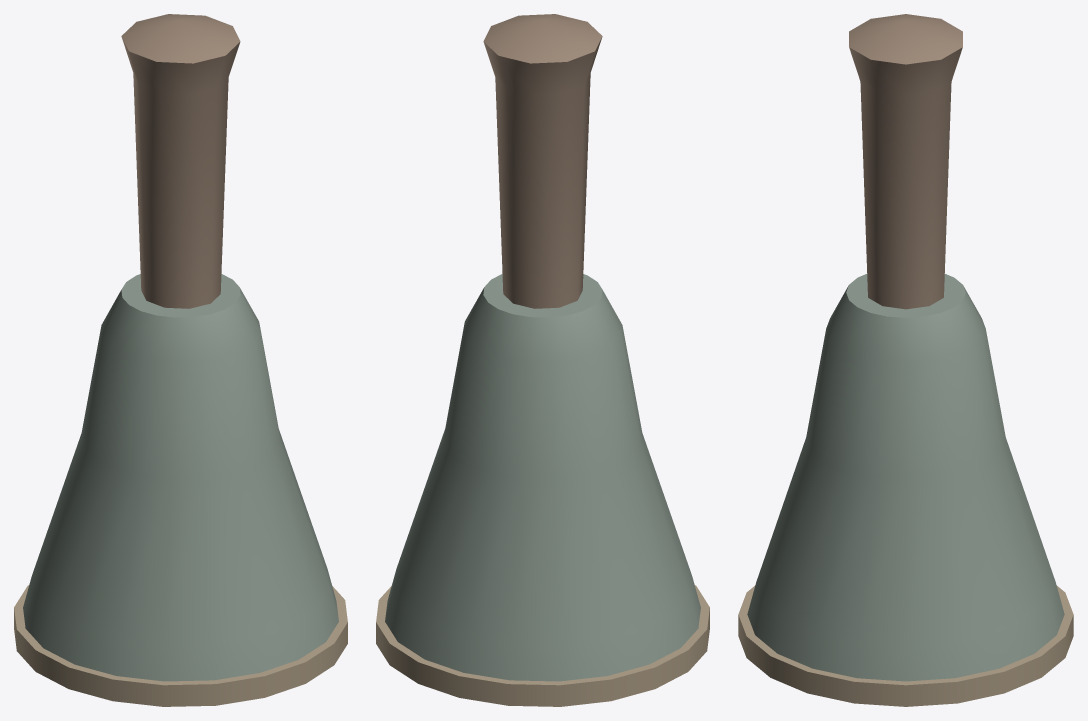
Rendered from tl_bell.gltf.
3 views of the same model, side by side, from view 1: azimuth 30°, elevation 25°; view 2: azimuth 150°, elevation 25°; view 3: azimuth 270°, elevation 25° (orthographic).
Parts seen in each view (by area): view 1: Body; view 2: Body; view 3: Body.
Part boxes in pixels (x1=…): Body: x1=14, y1=14, x2=347, y2=706; Body: x1=376, y1=14, x2=709, y2=706; Body: x1=738, y1=14, x2=1073, y2=706.
Size of the model in its own units: 0.168 by 0.34 by 0.168.
